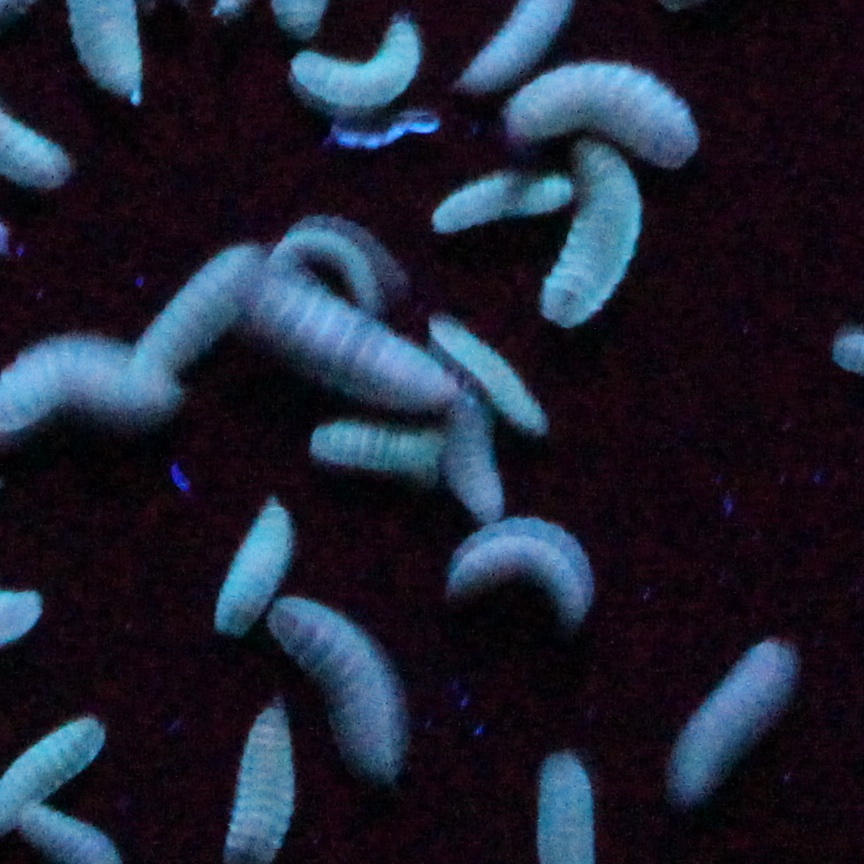larve: (250, 266, 453, 408), (508, 62, 702, 171), (673, 644, 793, 808), (542, 144, 642, 333), (148, 242, 264, 384), (453, 520, 593, 624), (293, 22, 422, 113), (213, 500, 295, 640), (430, 168, 568, 235), (446, 384, 504, 517), (317, 422, 453, 473)
